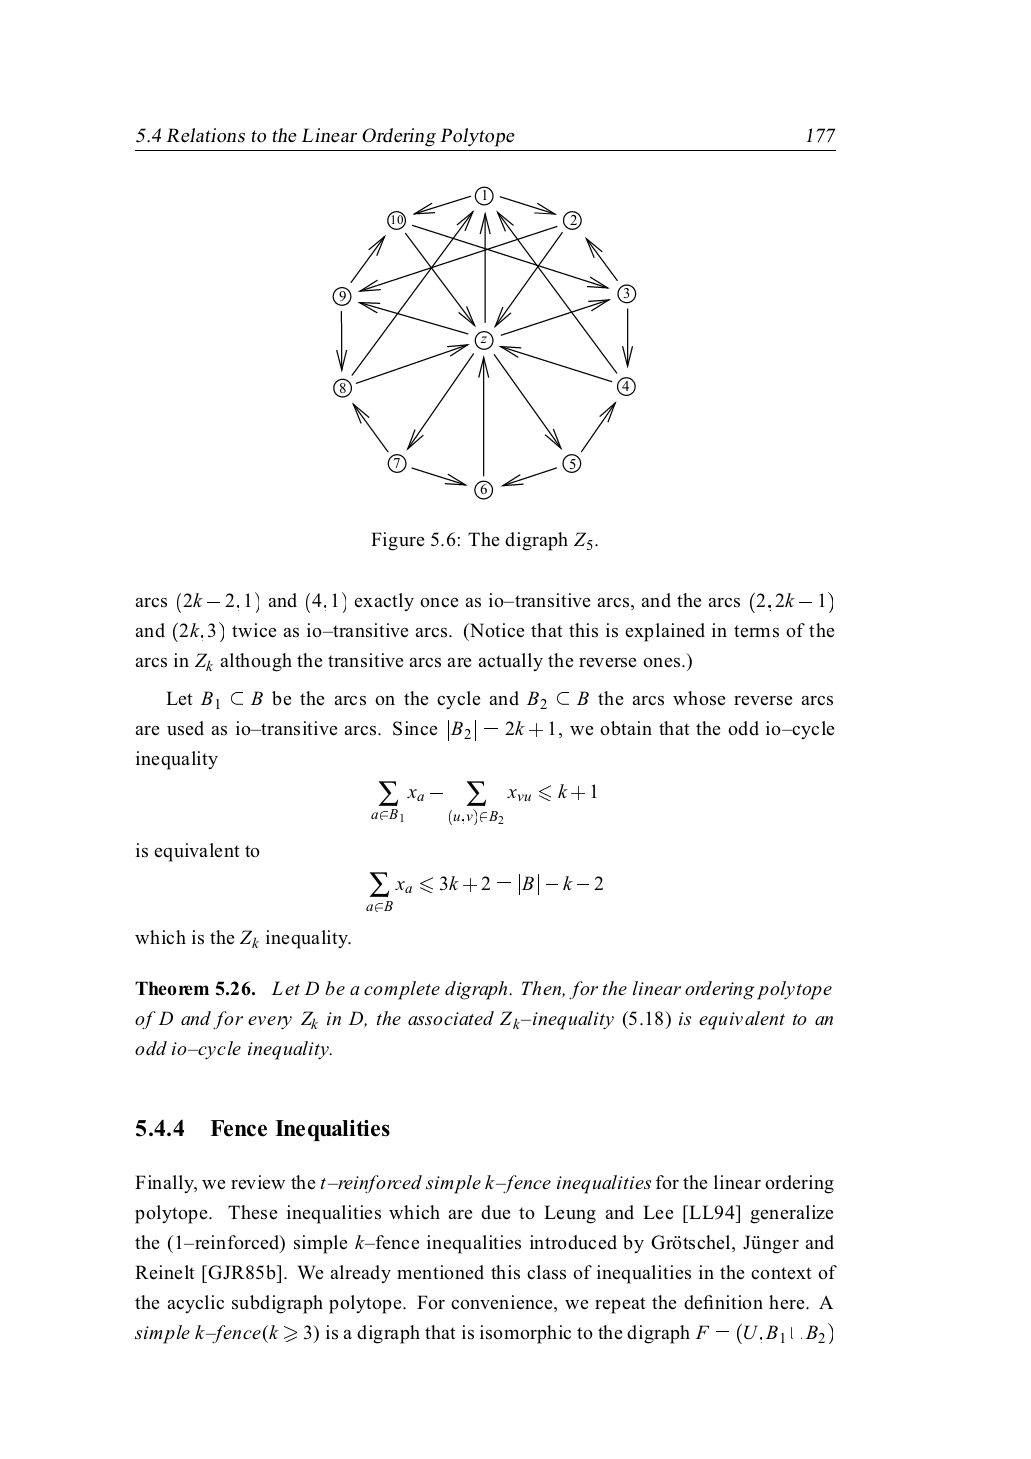figure: (333, 185, 636, 500)
formula: (370, 781, 596, 824), (366, 872, 603, 911)
